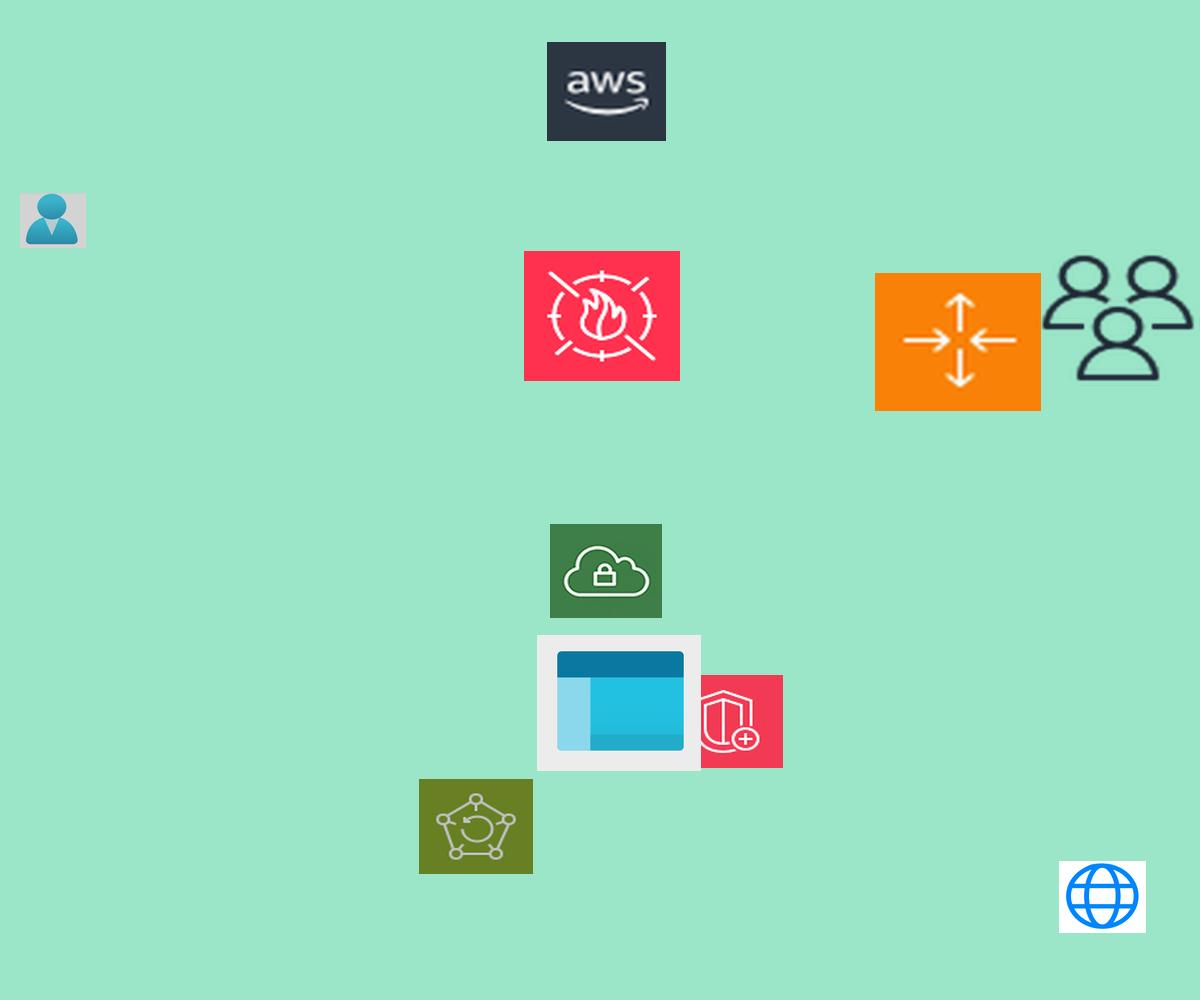AWS-Backup: (419, 779, 533, 874)
AWS-Cloud-logo: (547, 42, 666, 141)
AWS-Private_vpc: (550, 524, 662, 618)
AWS-Res_Users: (1036, 250, 1200, 386)
AWS-Scaling-group: (875, 273, 1041, 411)
AWS-Shield: (672, 675, 783, 768)
AWS-WAF: (524, 251, 680, 381)
Azure_http: (1059, 861, 1146, 933)
Azure_management-portal: (537, 635, 701, 771)
Azure_users: (20, 193, 86, 248)
